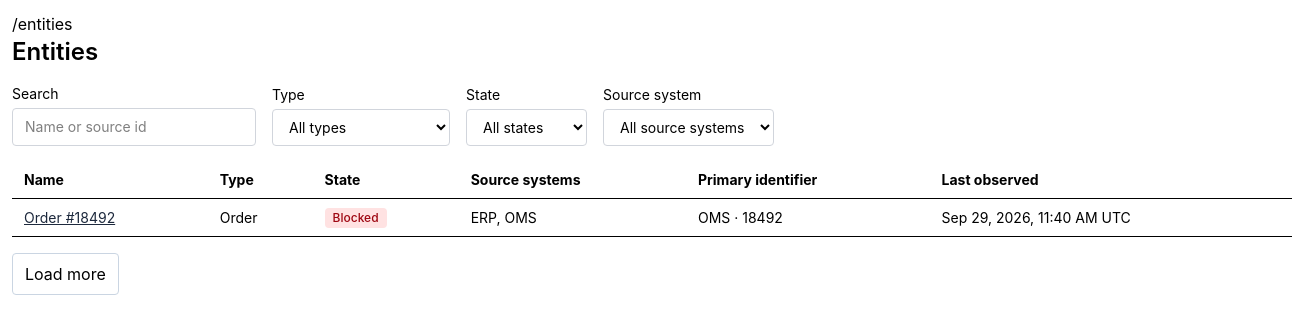
Test: EntityListPage › loads more rows with the next cursor
Expected: the link "Order #18492" is shown, [24, 208, 115, 226]
Click the button "Load more": (65, 274) [12, 253, 119, 295]
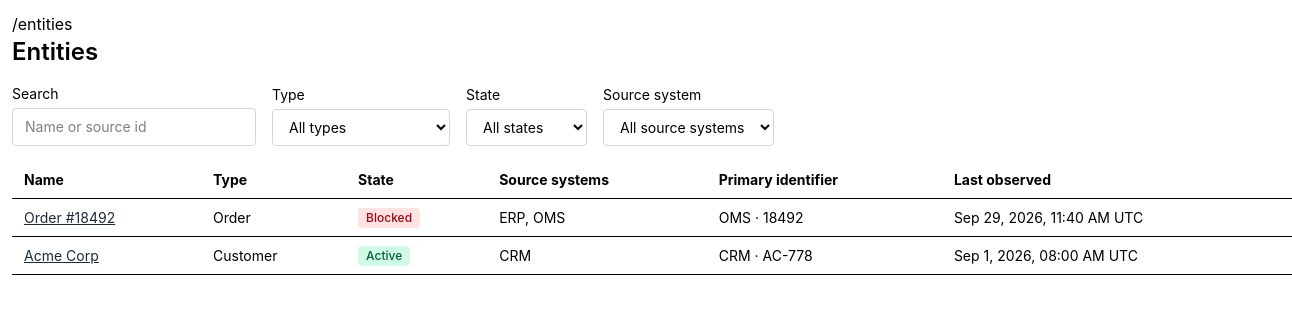
Expected: the link "Acme Corp" is shown, [24, 246, 99, 264]
